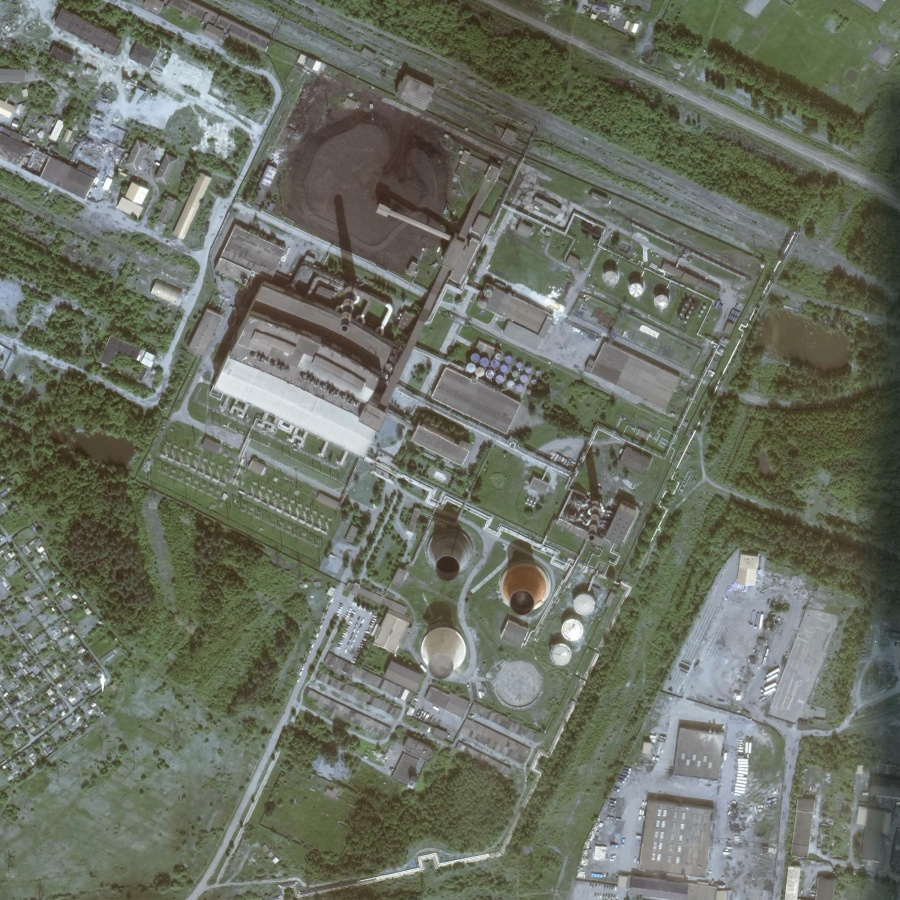PowerPlant: (206, 92, 671, 694)
